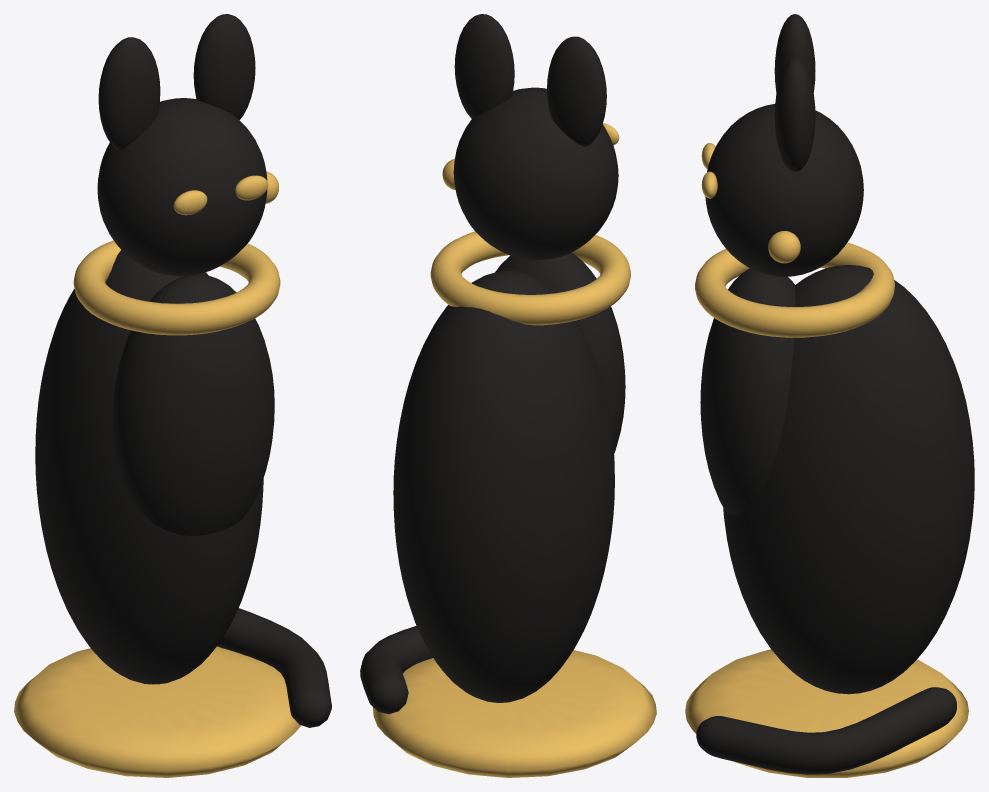
Rendered from deco_gato_egipcio.glb.
3 renders of one model, left to right at view 1: azimuth 30°, elevation 25°; view 2: azimuth 150°, elevation 25°; view 3: azimuth 270°, elevation 25°, orthographic. The views are drawn at different scales.
Parts seen in each view (by area): view 1: cuerpo gato eg.001, pecho gato eg.001, base gato.001, cabeza gato eg.001, collar.001, cola gato eg.001, oreja gato eg -1.001, oreja gato eg 1.001, ojo gato eg -1.001, ojo gato eg 1.001; view 2: cuerpo gato eg.001, base gato.001, cabeza gato eg.001, collar.001, pecho gato eg.001, oreja gato eg -1.001, oreja gato eg 1.001, cola gato eg.001; view 3: cuerpo gato eg.001, cabeza gato eg.001, pecho gato eg.001, base gato.001, cola gato eg.001, collar.001, oreja gato eg 1.001, oreja gato eg -1.001, arete.001.
Part boxes in pixels (x1,y1,x2,y2): cuerpo gato eg.001: (35, 250, 263, 684); pecho gato eg.001: (113, 274, 274, 535); base gato.001: (14, 646, 301, 777); cabeza gato eg.001: (97, 98, 267, 276); collar.001: (73, 240, 280, 335); cola gato eg.001: (217, 608, 331, 727); oreja gato eg -1.001: (98, 37, 160, 150); oreja gato eg 1.001: (193, 14, 255, 119); ojo gato eg -1.001: (173, 190, 207, 215); ojo gato eg 1.001: (235, 175, 268, 200); cuerpo gato eg.001: (393, 271, 614, 702); base gato.001: (373, 650, 656, 777); cabeza gato eg.001: (453, 87, 618, 260); collar.001: (430, 231, 630, 325); pecho gato eg.001: (495, 252, 625, 453); oreja gato eg -1.001: (547, 36, 606, 146); oreja gato eg 1.001: (454, 14, 514, 118); cola gato eg.001: (360, 626, 432, 714); cuerpo gato eg.001: (723, 265, 974, 694); cabeza gato eg.001: (705, 104, 863, 276); pecho gato eg.001: (700, 268, 795, 514); base gato.001: (685, 649, 968, 777); cola gato eg.001: (696, 687, 956, 774); collar.001: (695, 242, 894, 337); oreja gato eg 1.001: (774, 59, 815, 171); oreja gato eg -1.001: (774, 14, 815, 92); arete.001: (768, 231, 800, 263).
Bounding box in the file's own units: 0.1447 × 0.3587 × 0.136.
